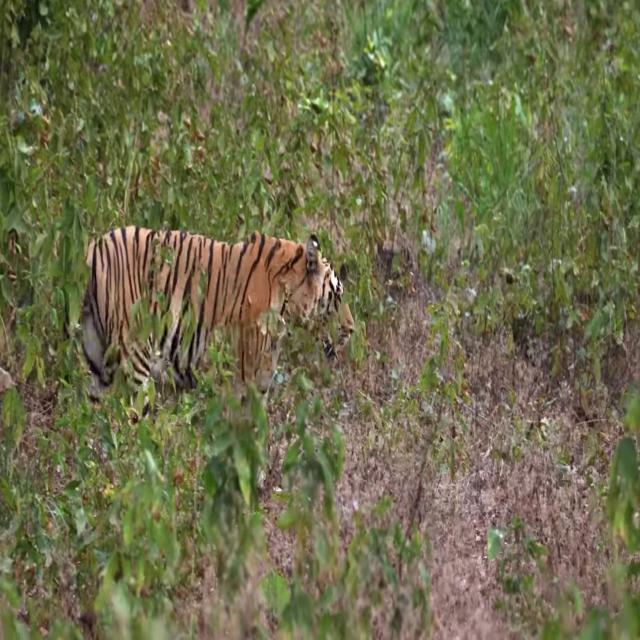tiger: (57, 225, 360, 489)
